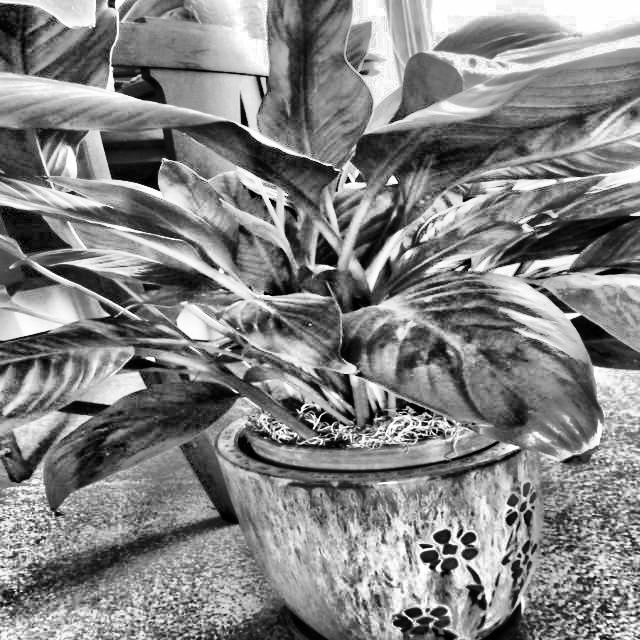plants: (65, 5, 640, 640), (231, 280, 628, 469)
